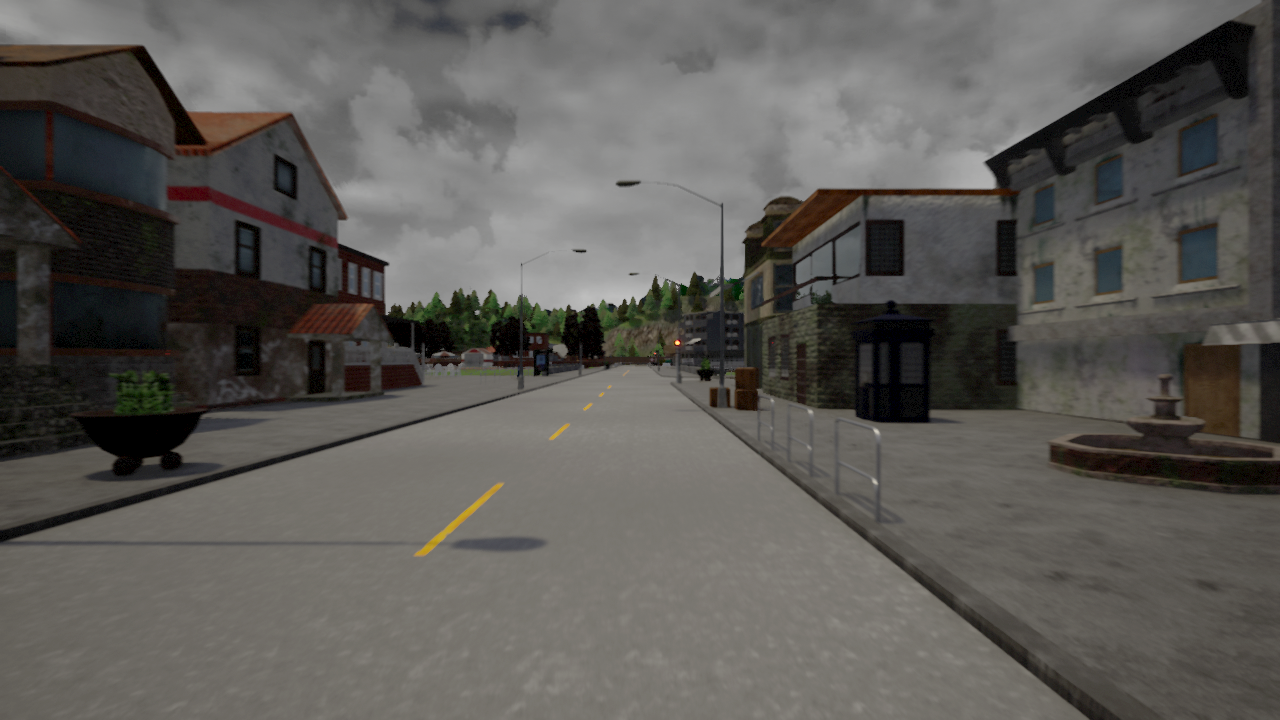red: (674, 339, 680, 353)
